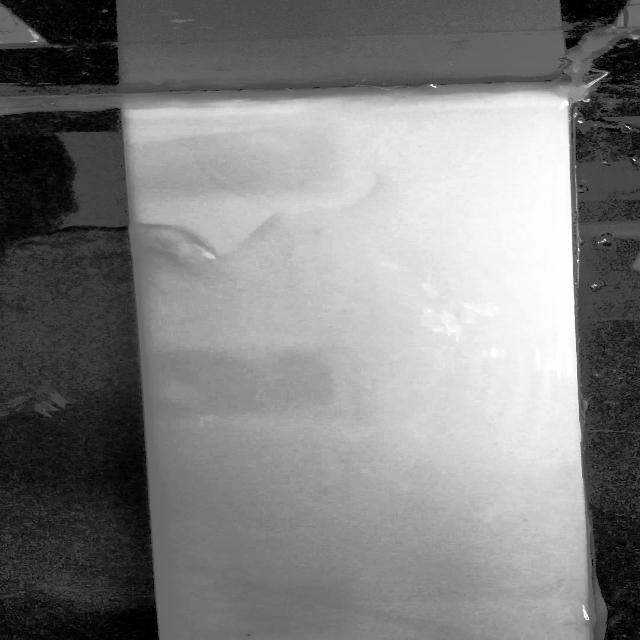shrimp: (233, 625, 265, 640)
